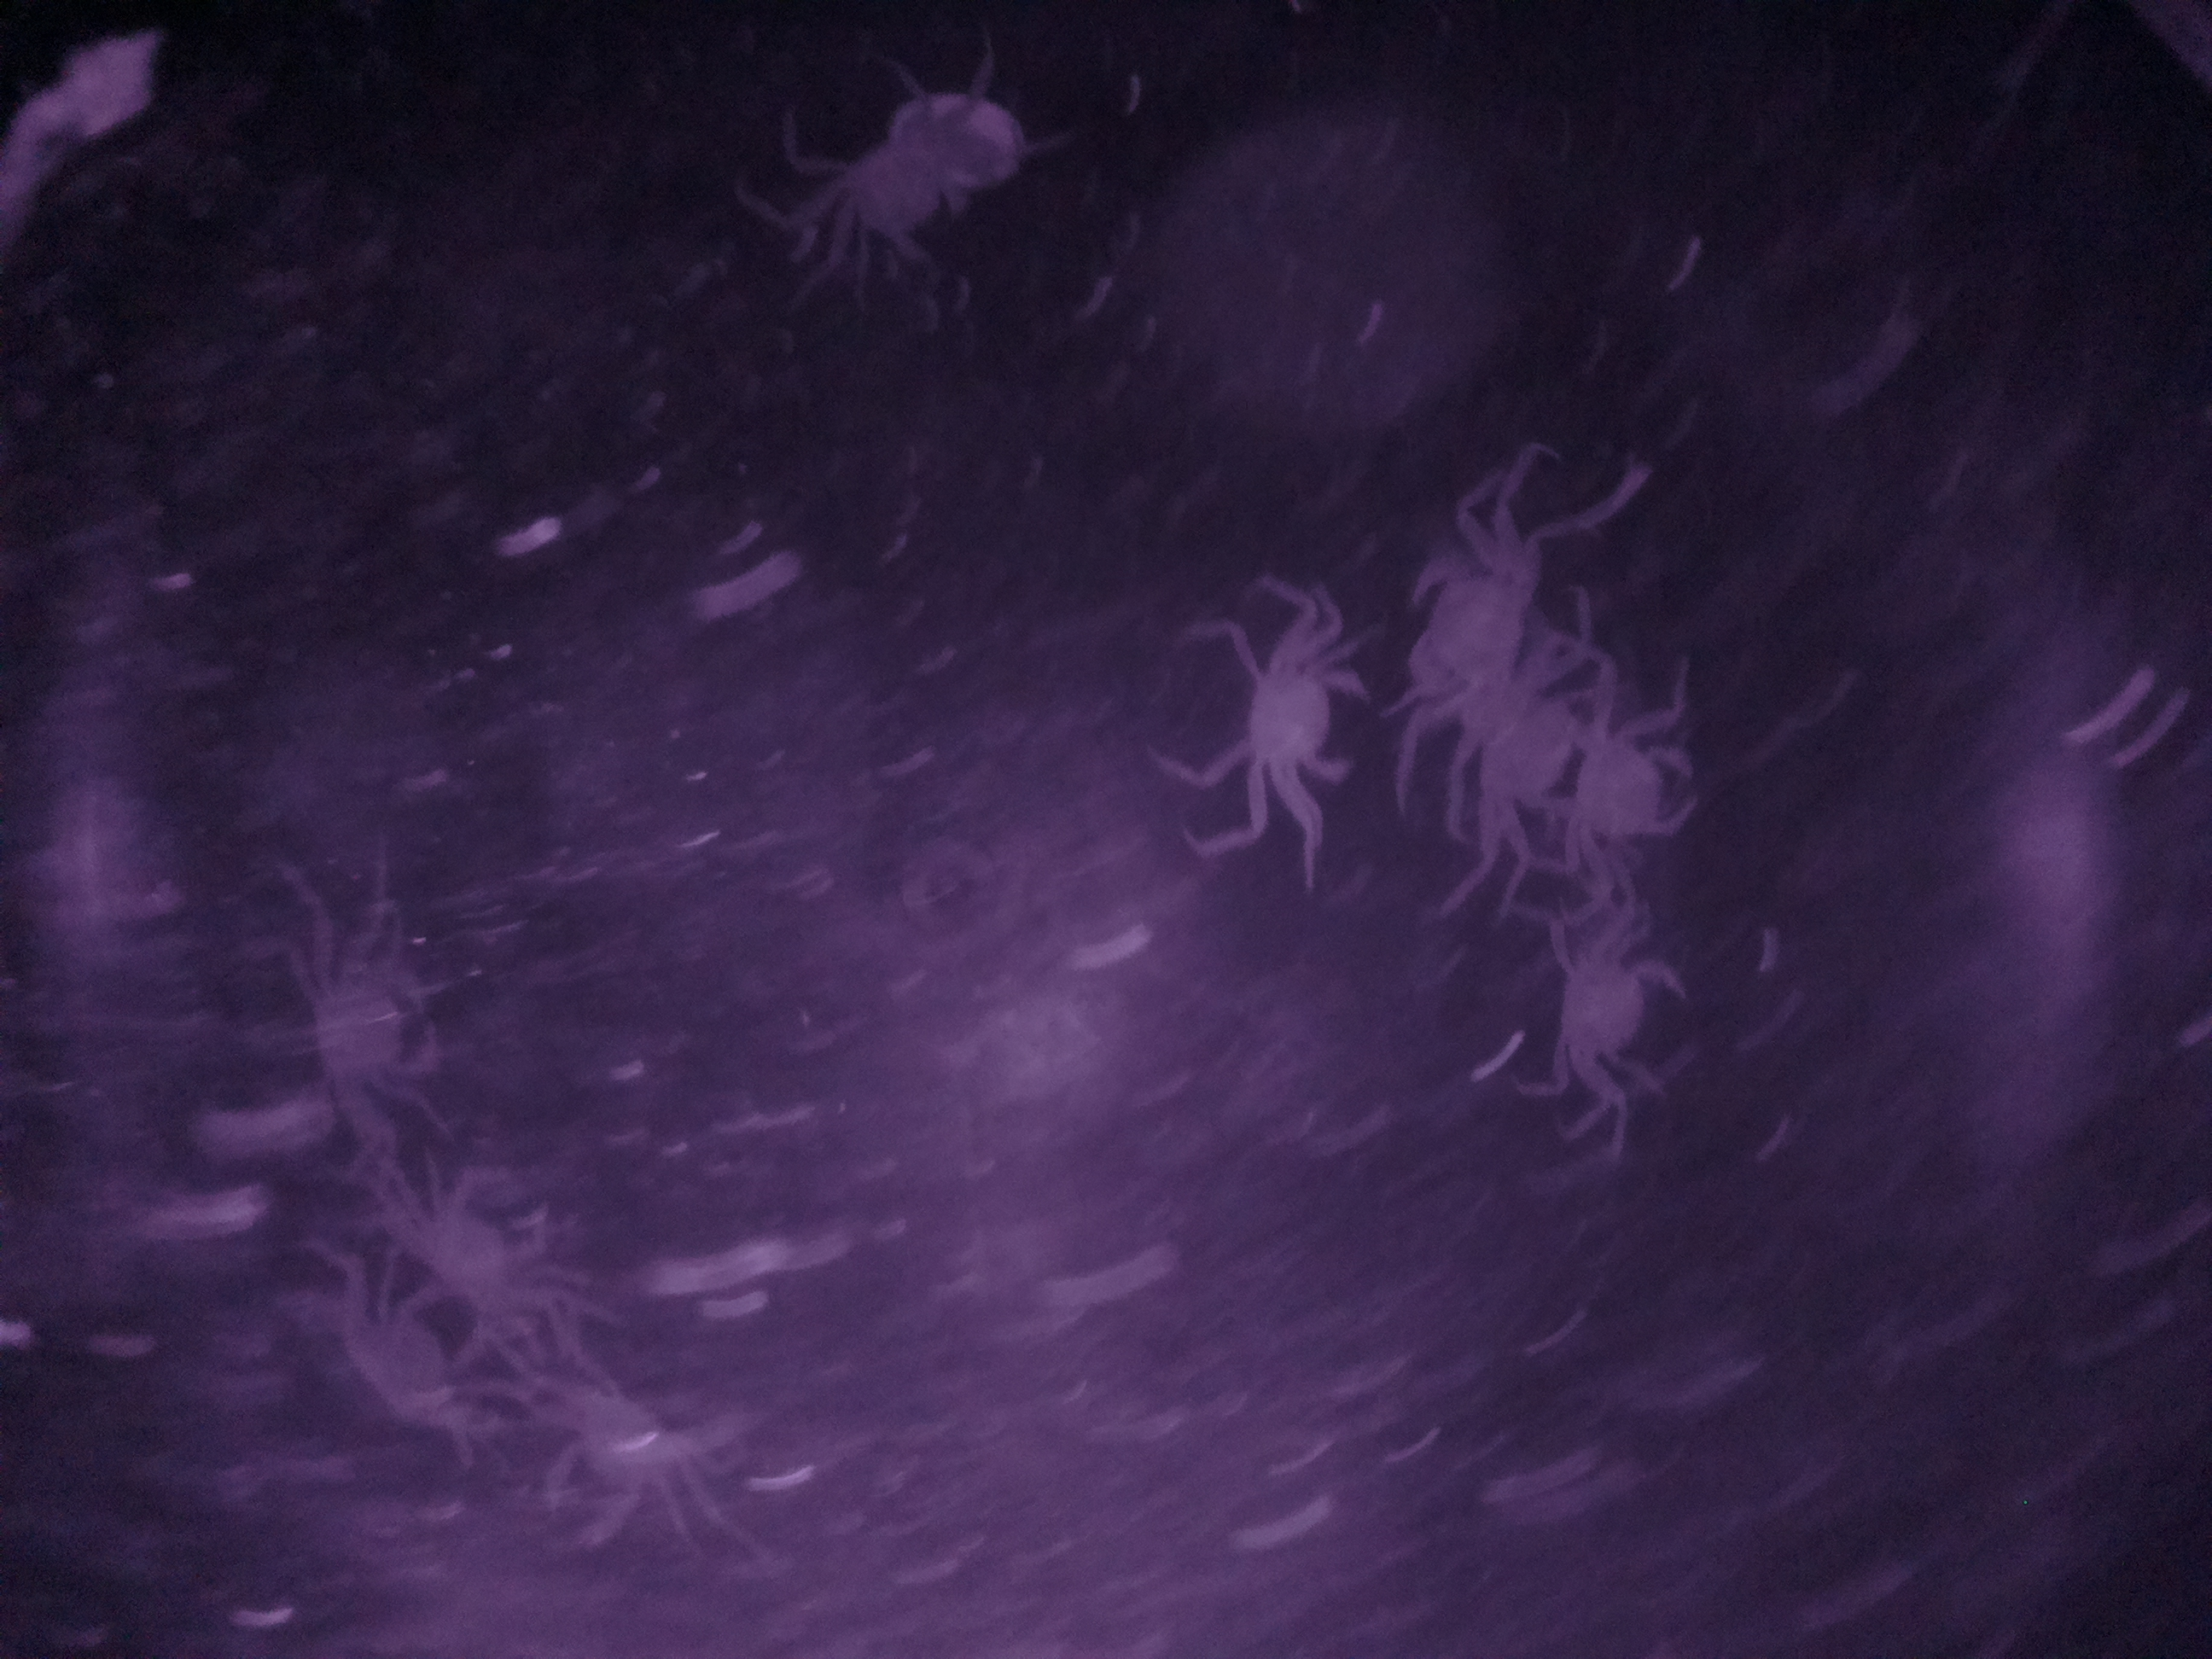Crab: (270, 915, 470, 1127), (1221, 617, 1379, 835), (1529, 911, 1695, 1115), (1548, 697, 1717, 885)
